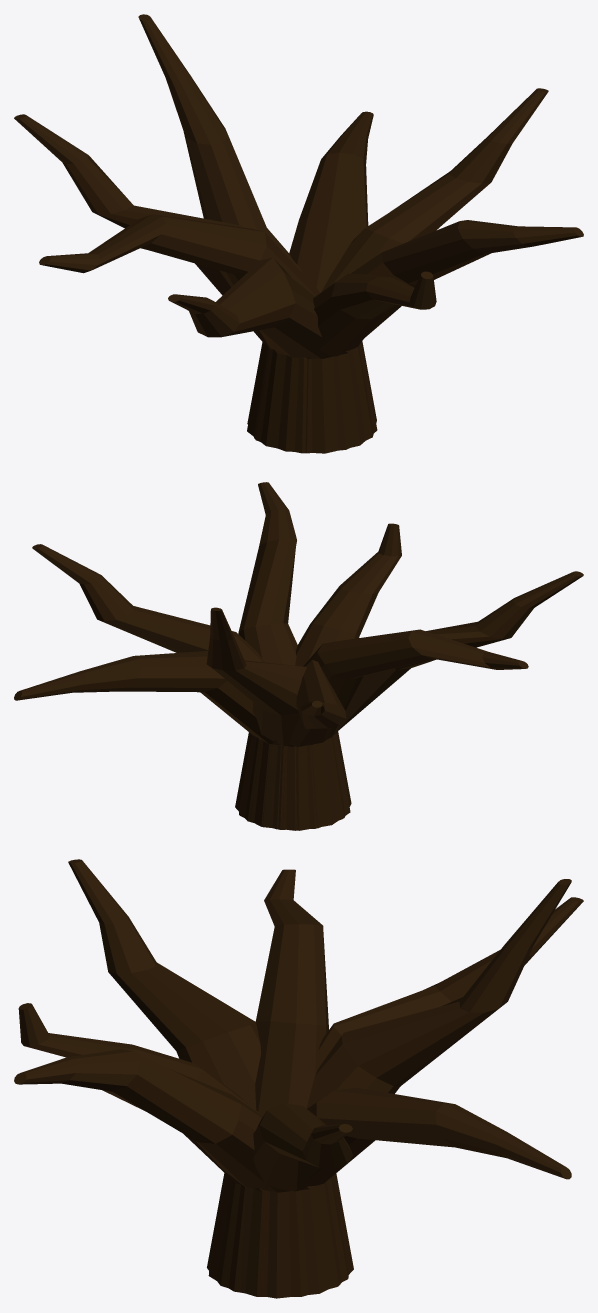
Rendered from dead bush.fbx.
3 views of the same model, one above another, from view 1: azimuth 30°, elevation 25°; view 2: azimuth 150°, elevation 25°; view 3: azimuth 270°, elevation 25° (orthographic). The views are drawn at different scales.
Visible parts, largest first — view 1: Cylinder; view 2: Cylinder; view 3: Cylinder.
Boxes of the visible parts, x1,y1,x2,y2 form: Cylinder: (14,14,583,453); Cylinder: (14,482,583,830); Cylinder: (14,859,583,1298).
Bounding box in the file's own units: 1271 × 742 × 1052.
